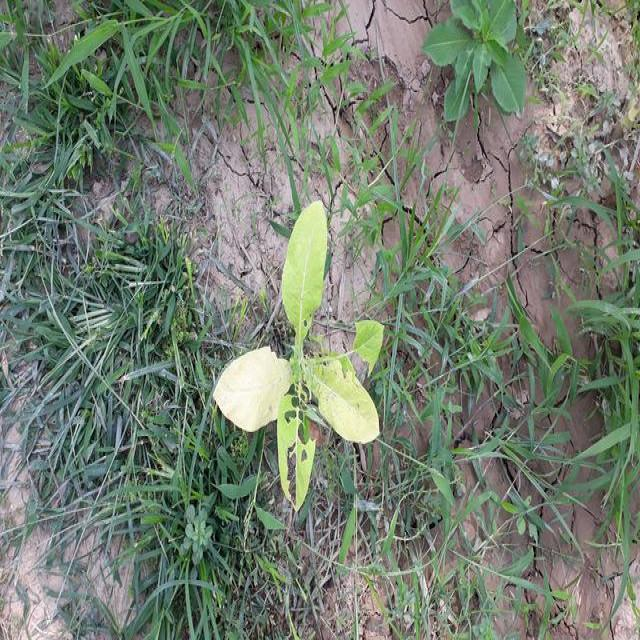crop: (205, 190, 391, 515)
